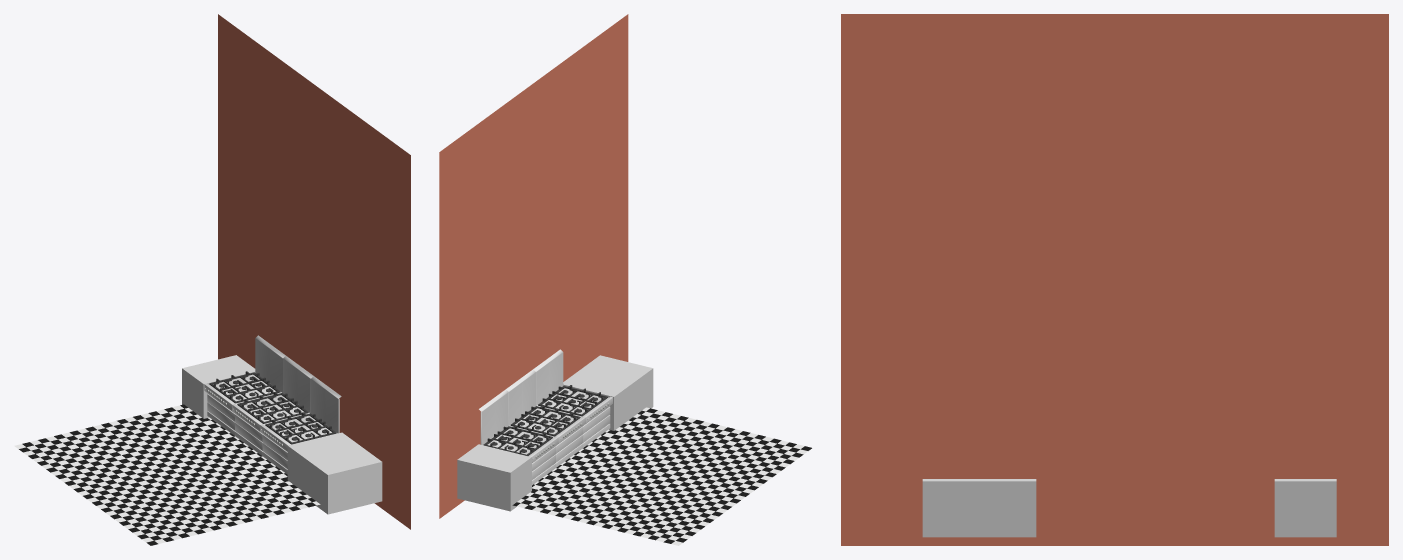
The model's file is cocina.fbx.
3 views of the same model, side by side, from view 1: azimuth 30°, elevation 25°; view 2: azimuth 150°, elevation 25°; view 3: azimuth 270°, elevation 25° (orthographic). The views are drawn at different scales.
Visible parts, largest first — view 1: Plane.005, Plane.004, Plane, Cube.002, Plane.001, Cube.001; view 2: Plane.005, Plane.004, Plane, Cube.001, Cube.002, Plane.001; view 3: Plane.005, Cube.002, Cube.001.
Part boxes in pixels (box(x1,y1,x2,y2)): Plane.005: box(218, 14, 410, 529); Plane.004: box(14, 404, 320, 545); Plane: box(204, 335, 341, 474); Cube.002: box(287, 432, 382, 514); Plane.001: box(209, 371, 336, 444); Cube.001: box(182, 355, 255, 418); Plane.005: box(439, 14, 628, 518); Plane.004: box(512, 407, 811, 545); Plane: box(479, 349, 612, 485); Cube.001: box(457, 444, 531, 511); Cube.002: box(563, 355, 653, 430); Plane.001: box(483, 385, 607, 455); Plane.005: box(841, 14, 1388, 545); Cube.002: box(922, 479, 1036, 537); Cube.001: box(1274, 479, 1336, 537).
Bounding box in the file's own units: 391 × 615 × 574.
